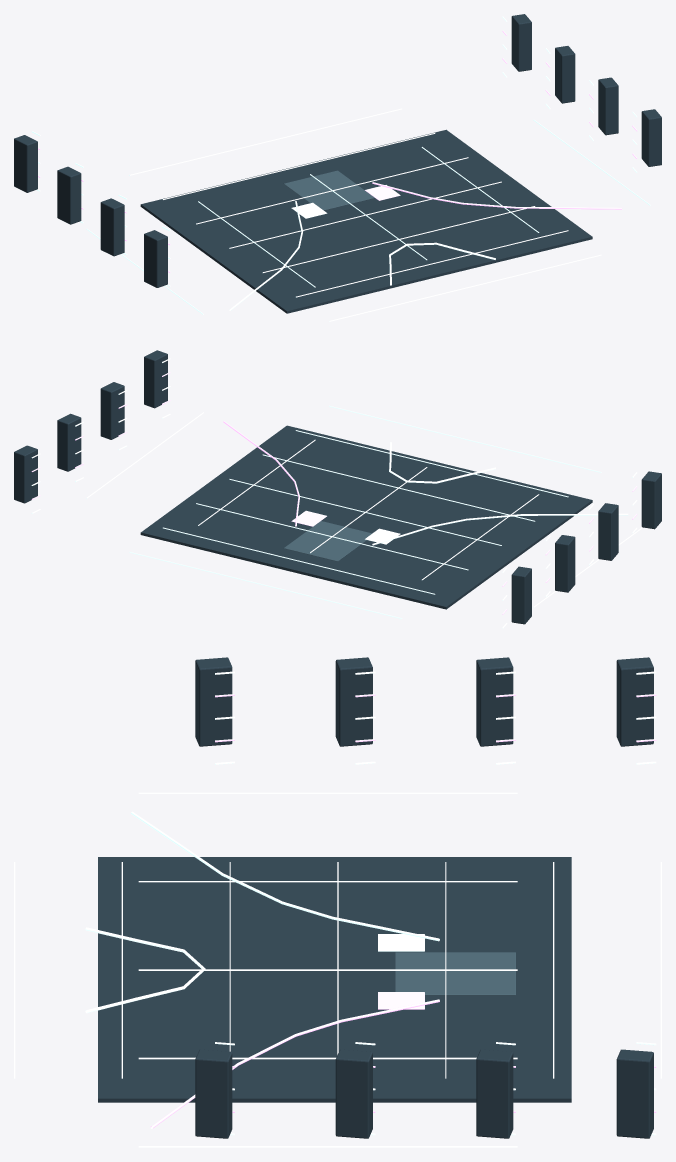
The model's file is arena_props.glb.
3 renders of one model, top to bottom at view 1: azimuth 30°, elevation 25°; view 2: azimuth 150°, elevation 25°; view 3: azimuth 270°, elevation 25°, orthographic. The views are drawn at different scales.
Parts seen in each view (by area): view 1: Arena_BaseFloor, Arena_CommandDeck, Arena_Server_-1_1, Arena_Server_-1_2, Arena_Server_-1_0, Arena_Server_-1_3, Arena_Server_1_2, Arena_Server_1_0, Arena_Server_1_3, Arena_Server_1_1, Arena_Cable_BLADE, Arena_HorizontalRail_6 (+2 smaller); view 2: Arena_BaseFloor, Arena_CommandDeck, Arena_Server_1_1, Arena_Server_1_2, Arena_Server_1_0, Arena_Server_1_3, Arena_Server_-1_1, Arena_Server_-1_2, Arena_Server_-1_0, Arena_Server_-1_3, Arena_Cable_BYTE, Arena_HorizontalRail_1 (+6 smaller); view 3: Arena_BaseFloor, Arena_CommandDeck, Arena_Server_1_3, Arena_Server_1_0, Arena_Server_1_2, Arena_Server_1_1, Arena_Server_-1_0, Arena_Server_-1_2, Arena_Server_-1_1, Arena_Server_-1_3, Arena_Cable_BYTE, Arena_Cable_Resolve (+8 smaller).
Part boxes in pixels (x1,y1,x2,y2): Arena_BaseFloor: (140, 129, 592, 313); Arena_CommandDeck: (284, 170, 374, 210); Arena_Server_-1_1: (57, 166, 81, 224); Arena_Server_-1_2: (100, 198, 124, 256); Arena_Server_-1_0: (14, 135, 37, 192); Arena_Server_-1_3: (144, 230, 167, 287); Arena_Server_1_2: (598, 77, 618, 135); Arena_Server_1_0: (511, 14, 531, 71); Arena_Server_1_3: (641, 109, 661, 166); Arena_Server_1_1: (555, 46, 575, 103); Arena_Cable_BLADE: (372, 182, 622, 209); Arena_HorizontalRail_6: (329, 254, 601, 321); Arena_BaseFloor: (140, 425, 592, 609); Arena_CommandDeck: (284, 521, 371, 561); Arena_Server_1_1: (57, 413, 81, 471); Arena_Server_1_2: (100, 382, 124, 439); Arena_Server_1_0: (14, 445, 37, 503); Arena_Server_1_3: (144, 350, 167, 408); Arena_Server_-1_1: (555, 535, 575, 592); Arena_Server_-1_2: (598, 503, 618, 560); Arena_Server_-1_0: (511, 566, 531, 624); Arena_Server_-1_3: (641, 471, 661, 529); Arena_Cable_BYTE: (372, 513, 628, 545); Arena_HorizontalRail_1: (163, 527, 435, 594); Arena_BaseFloor: (98, 857, 571, 1102); Arena_CommandDeck: (395, 952, 515, 995); Arena_Server_1_3: (195, 1049, 232, 1138); Arena_Server_1_0: (616, 1049, 653, 1138); Arena_Server_1_2: (335, 1049, 372, 1138); Arena_Server_1_1: (476, 1049, 513, 1138); Arena_Server_-1_0: (616, 657, 653, 746); Arena_Server_-1_2: (335, 657, 372, 746); Arena_Server_-1_1: (476, 657, 513, 746); Arena_Server_-1_3: (195, 657, 232, 746); Arena_Cable_BYTE: (131, 811, 439, 941); Arena_Cable_Resolve: (85, 927, 205, 1013).
Bounding box in the file's own units: 14.64 × 2.1 × 9.92.
